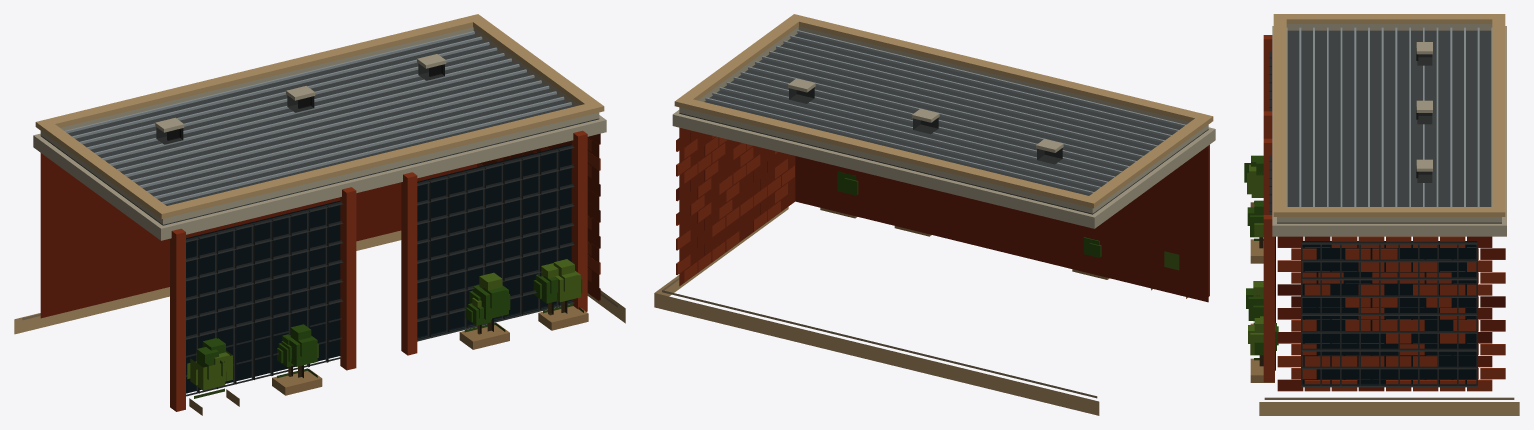
Rendered from SM_StreetFrontage_028.fbx.
3 views of the same model, side by side, from view 1: azimuth 30°, elevation 25°; view 2: azimuth 150°, elevation 25°; view 3: azimuth 270°, elevation 25° (orthographic). The views are drawn at different scales.
Parts seen in each view (by area): view 1: SM_StreetFrontage_028; view 2: SM_StreetFrontage_028; view 3: SM_StreetFrontage_028.
Boxes of the visible parts, x1,y1,x2,y2 form: SM_StreetFrontage_028: [14, 14, 625, 415]; SM_StreetFrontage_028: [654, 14, 1215, 415]; SM_StreetFrontage_028: [1244, 14, 1519, 415].
Bounding box in the file's own units: 24 × 13.27 × 10.91.
